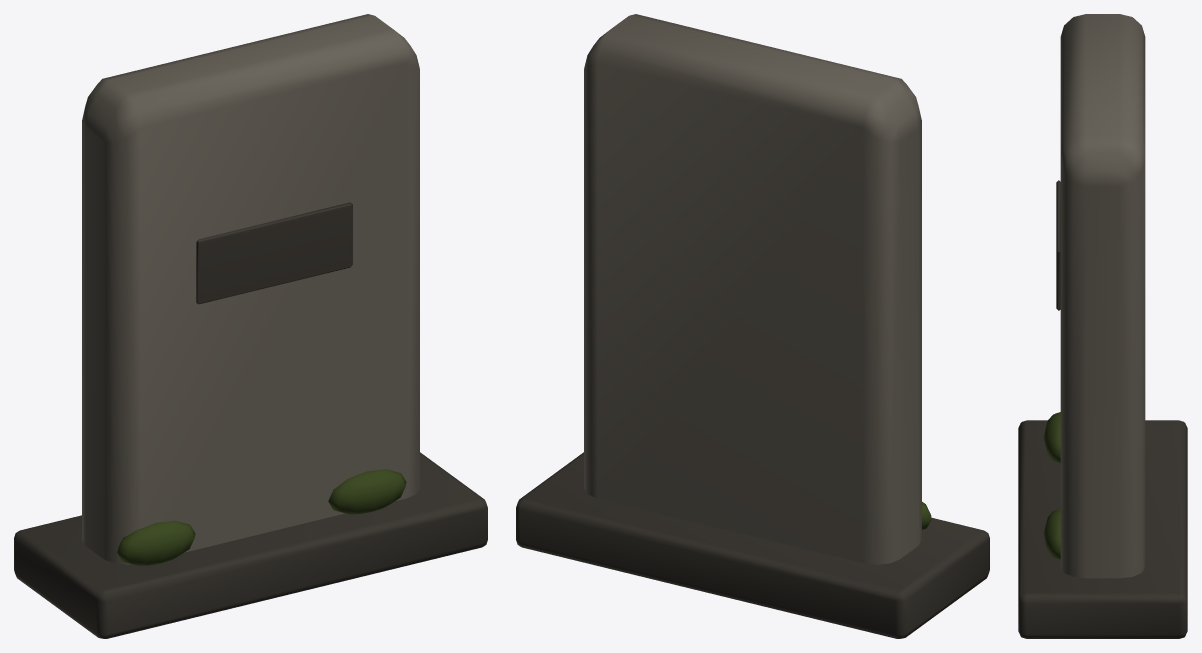
The model's file is gravestone.obj.
The picture shows the model from 3 angles, left to right: view 1: azimuth 30°, elevation 25°; view 2: azimuth 150°, elevation 25°; view 3: azimuth 270°, elevation 25°; orthographic projection. The views are drawn at different scales.
Parts seen in each view (by area): view 1: LH_gravestone; view 2: LH_gravestone; view 3: LH_gravestone.
Part boxes in pixels (<box>): LH_gravestone: <box>14,14,487,638</box>; LH_gravestone: <box>516,14,989,638</box>; LH_gravestone: <box>1018,14,1187,638</box>.
Bounding box in the file's own units: 0.5 × 0.6222 × 0.2.
